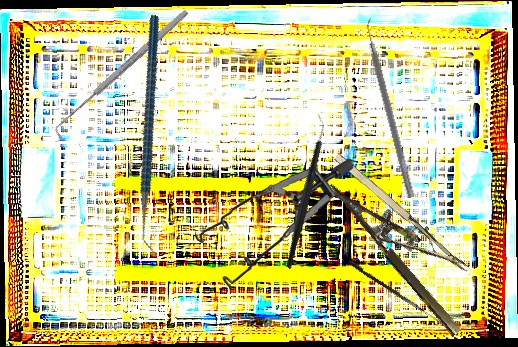Chopper: (67, 14, 240, 258), (235, 113, 373, 270)
Hook Surgical: (49, 6, 195, 141), (347, 259, 448, 327)
Needle Holder: (326, 162, 482, 339), (314, 149, 471, 299)
Spatula Surgical: (359, 16, 423, 199)
Speculum: (192, 157, 358, 293)
